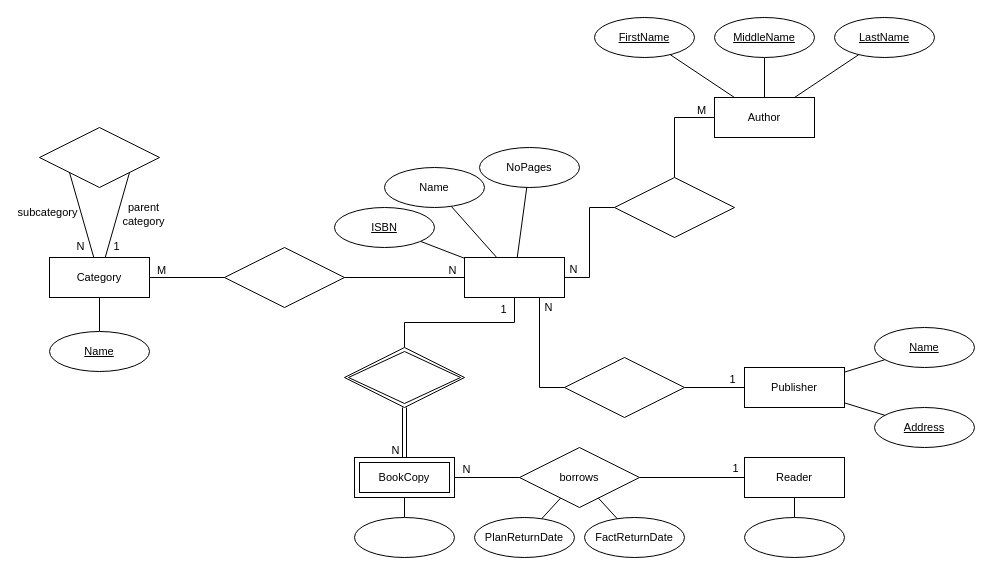
Some shapes in this 992 by 575 pixel diagram are drawn without their labels. Each missing label, with the centre of its shape:
"Book" goes at point 514,277.
"BookCopyID" goes at point 404,537.
"is copy of" goes at point 404,377.
"is subcategory of" goes at point 99,157.
"LibCardID" goes at point 794,537.
"published" goes at point 624,387.
"relates to" goes at point 284,277.
"wrote" goes at point 674,207.
